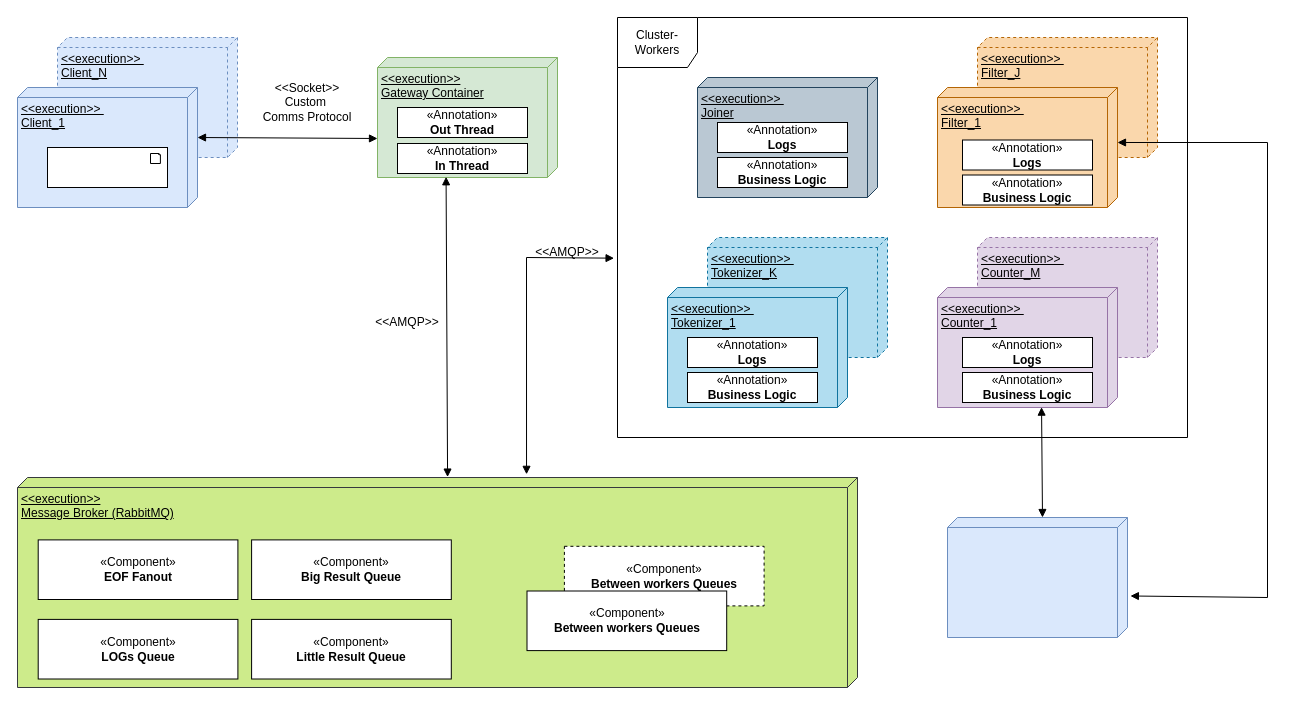
Image size: 1294x705. Some labels were removed from this diagram. The centre of each missing label's shape, as x and y in pixels:
<<Device>> Storage Volume: the point at 1037,577
«Artifact» archivo.parquet: the point at 107,167
